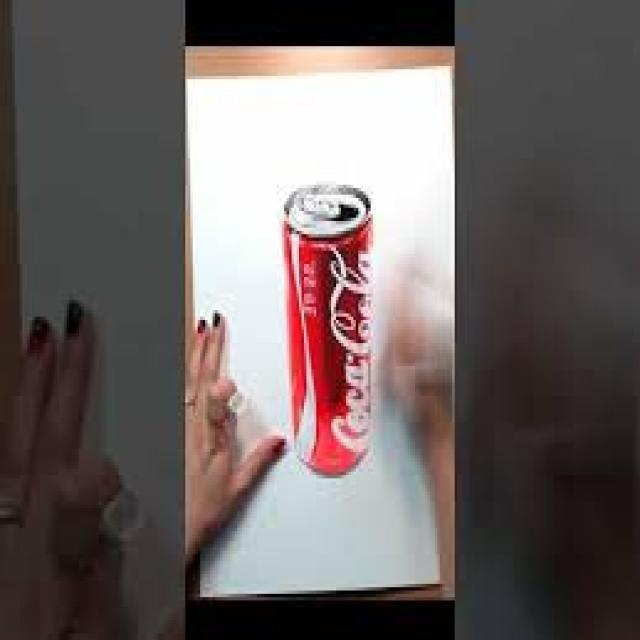coca-cola: (281, 193, 379, 482)
